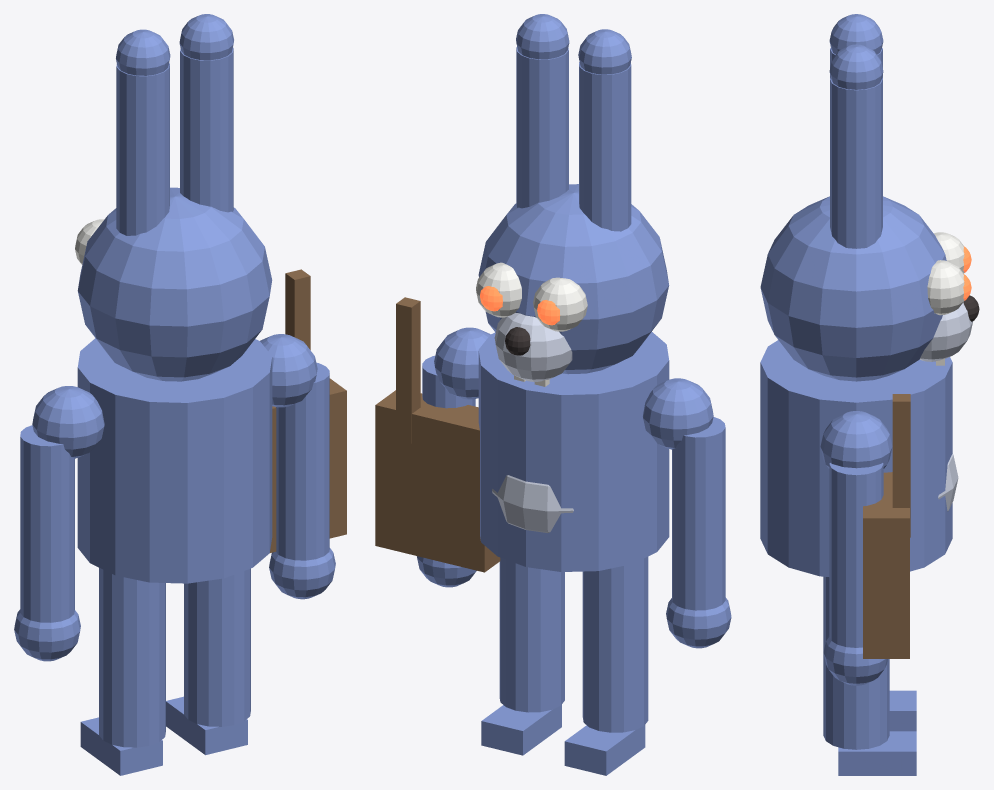
File: benny.glb
The picture shows the model from 3 angles, left to right: view 1: azimuth 30°, elevation 25°; view 2: azimuth 150°, elevation 25°; view 3: azimuth 270°, elevation 25°; orthographic projection. The views are drawn at different scales.
Visible parts, largest first — view 1: Benny_Torso, Benny_Head, Benny_Leg_L, Benny_Arm_L, Benny_Leg_R, Benny_Arm_R, Benny_Ear_L, Benny_Ear_R, Benny_Shoulder_L, Benny_Guitar, Benny_Shoulder_R, Benny_Hand_L (+6 smaller); view 2: Benny_Torso, Benny_Head, Benny_Guitar, Benny_Leg_L, Benny_Arm_L, Benny_Leg_R, Benny_Ear_L, Benny_Ear_R, Benny_Shoulder_L, Benny_Snout, Benny_GuitarNeck, Benny_Foot_L (+10 smaller); view 3: Benny_Torso, Benny_Head, Benny_Ear_R, Benny_Guitar, Benny_Arm_R, Benny_Leg_R, Benny_Shoulder_R, Benny_Foot_R, Benny_GuitarNeck, Benny_EarTip_R, Benny_Hand_R, Benny_EyeW_R (+5 smaller).
Boxes of the visible parts, <box> form: Benny_Torso: <box>77,338,272,583</box>; Benny_Head: <box>77,187,272,381</box>; Benny_Leg_L: <box>99,567,165,747</box>; Benny_Arm_L: <box>20,425,74,622</box>; Benny_Leg_R: <box>184,568,250,726</box>; Benny_Arm_R: <box>276,362,329,560</box>; Benny_Ear_L: <box>116,63,169,235</box>; Benny_Ear_R: <box>180,47,233,212</box>; Benny_Shoulder_L: <box>32,386,104,458</box>; Benny_Guitar: <box>270,378,346,552</box>; Benny_Shoulder_R: <box>260,334,317,407</box>; Benny_Hand_L: <box>14,609,80,661</box>; Benny_Torso: <box>478,332,669,571</box>; Benny_Head: <box>478,184,669,374</box>; Benny_Guitar: <box>375,390,500,572</box>; Benny_Leg_L: <box>582,556,648,732</box>; Benny_Arm_L: <box>672,417,725,610</box>; Benny_Leg_R: <box>499,557,564,712</box>; Benny_Ear_L: <box>579,62,631,231</box>; Benny_Ear_R: <box>516,47,568,208</box>; Benny_Shoulder_L: <box>643,378,713,449</box>; Benny_Snout: <box>494,313,572,381</box>; Benny_GuitarNeck: <box>396,297,420,443</box>; Benny_Foot_L: <box>564,725,645,775</box>; Benny_Torso: <box>760,340,952,576</box>; Benny_Head: <box>760,196,946,381</box>; Benny_Ear_R: <box>830,78,882,248</box>; Benny_Guitar: <box>863,472,909,658</box>; Benny_Arm_R: <box>829,463,883,647</box>; Benny_Leg_R: <box>823,576,889,749</box>; Benny_Shoulder_R: <box>820,411,892,468</box>; Benny_Foot_R: <box>838,731,916,775</box>; Benny_GuitarNeck: <box>892,394,910,537</box>; Benny_EarTip_R: <box>829,44,883,89</box>; Benny_Hand_R: <box>823,635,887,685</box>; Benny_EyeW_R: <box>927,260,964,315</box>.
Size of the model in its own units: 1.25 by 2.62 by 0.73.
